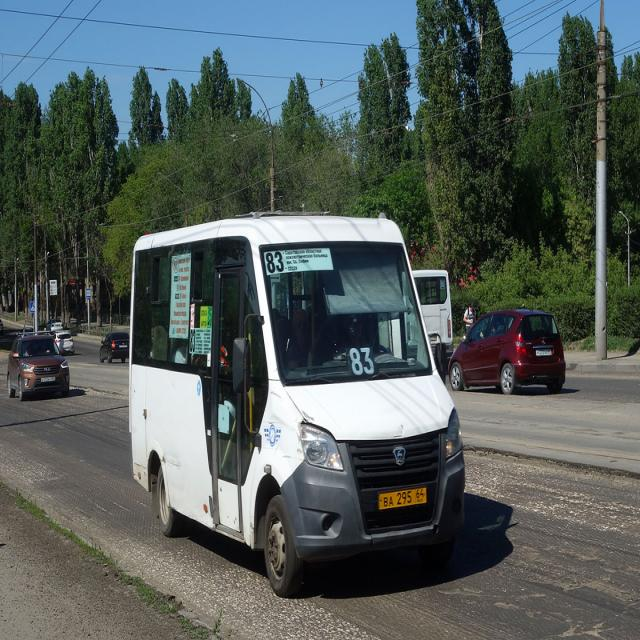number-of-bus: (349, 347, 376, 378), (265, 251, 286, 275)
